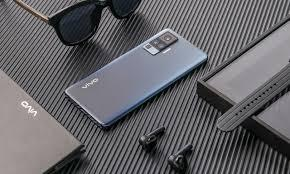Smartphone: (81, 26, 208, 142)
